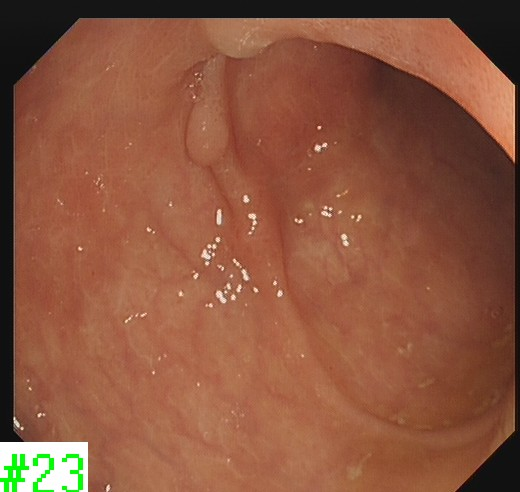adenoma: (179, 95, 232, 169)
